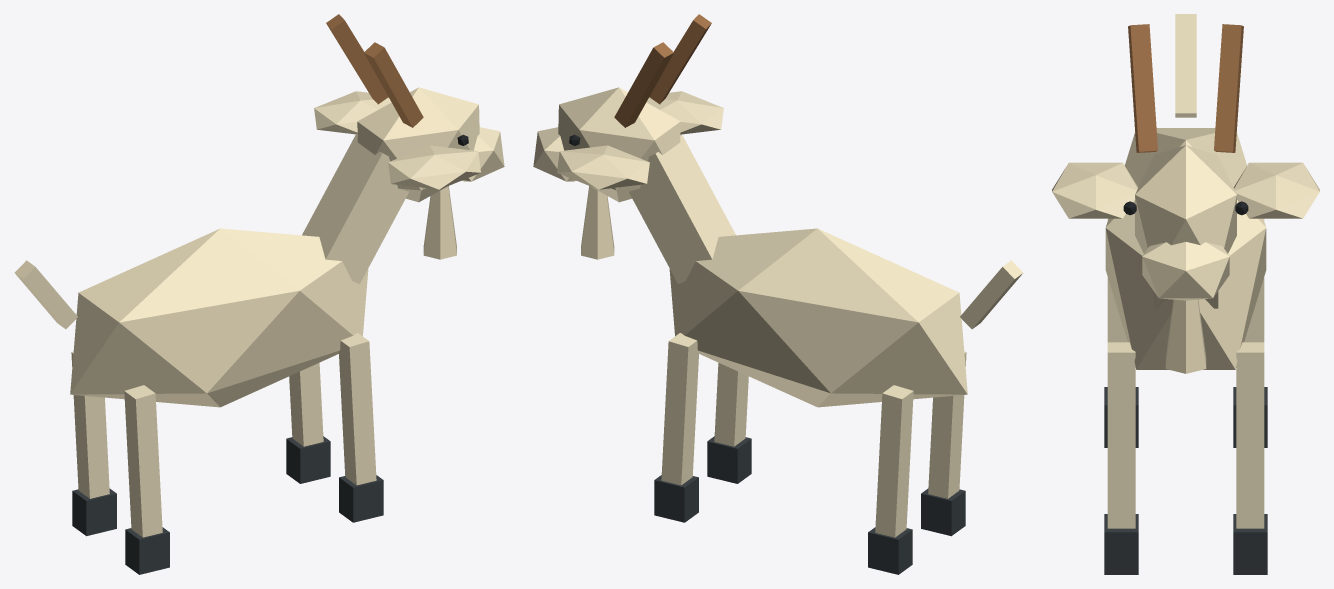
Rendered from TR3_Goat_cream.glb.
The picture shows the model from 3 angles, left to right: view 1: azimuth 30°, elevation 25°; view 2: azimuth 150°, elevation 25°; view 3: azimuth 270°, elevation 25°; orthographic projection. The views are drawn at different scales.
Parts seen in each view (by area): view 1: TR3_Goat_cream; view 2: TR3_Goat_cream; view 3: TR3_Goat_cream.
Boxes of the visible parts, x1,y1,x2,y2 form: TR3_Goat_cream: (14, 14, 504, 574); TR3_Goat_cream: (533, 14, 1023, 574); TR3_Goat_cream: (1052, 14, 1319, 574).
Bounding box in the file's own units: 1.58 × 1.43 × 0.6242.
